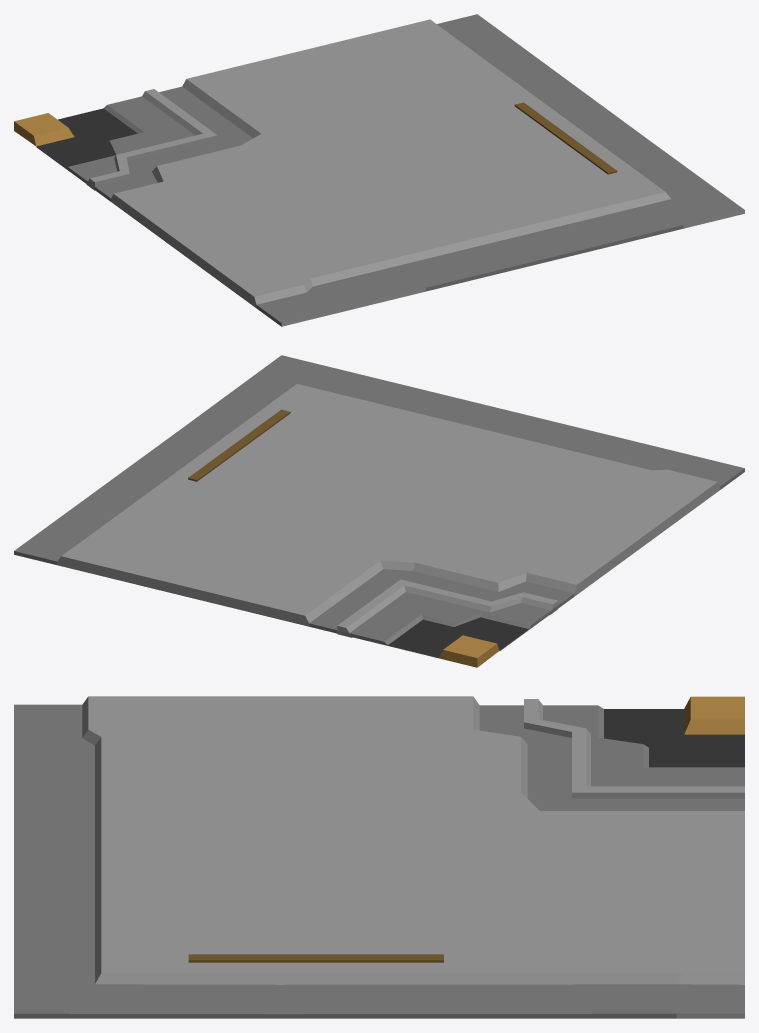
File: FloorTile_InnerCorner.glb
3 views of the same model, one above another, from view 1: azimuth 30°, elevation 25°; view 2: azimuth 150°, elevation 25°; view 3: azimuth 270°, elevation 25° (orthographic). The views are drawn at different scales.
Parts seen in each view (by area): view 1: FloorTile_InnerCorner_Plane.228; view 2: FloorTile_InnerCorner_Plane.228; view 3: FloorTile_InnerCorner_Plane.228.
Boxes of the visible parts, x1,y1,x2,y2 form: FloorTile_InnerCorner_Plane.228: [14, 14, 744, 326]; FloorTile_InnerCorner_Plane.228: [14, 355, 744, 667]; FloorTile_InnerCorner_Plane.228: [14, 696, 744, 1018].
Size of the model in its own units: 2 by 0.051 by 2.
